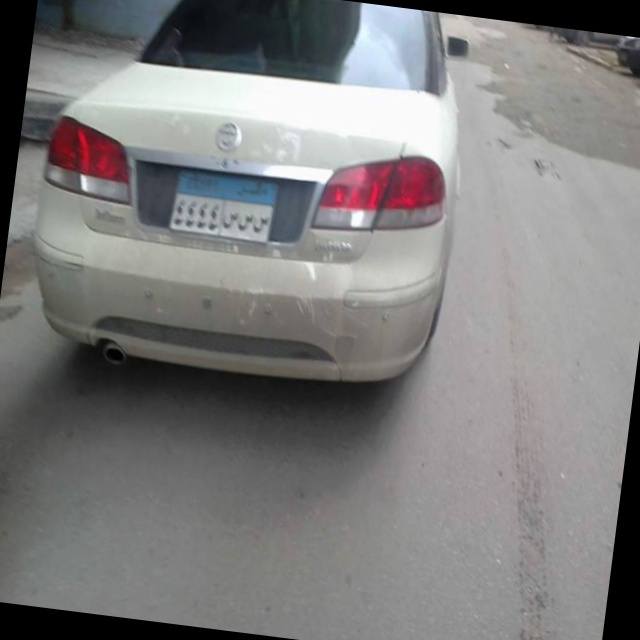License Plate: (166, 167, 280, 248)
